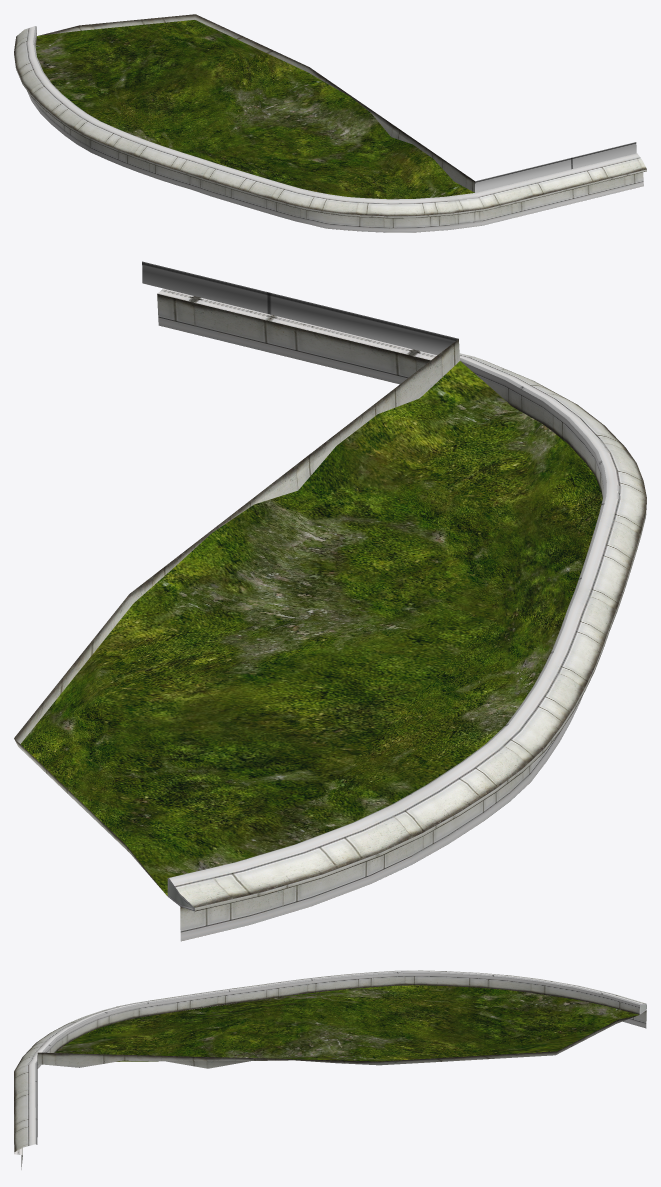
File: STA20_42.FBX
3 renders of one model, top to bottom at view 1: azimuth 30°, elevation 25°; view 2: azimuth 150°, elevation 25°; view 3: azimuth 270°, elevation 25°, orthographic. The views are drawn at different scales.
Visible parts, largest first — view 1: STA20_42; view 2: STA20_42; view 3: STA20_42.
Boxes of the visible parts, x1=… form: STA20_42: x1=14, y1=14, x2=646, y2=232; STA20_42: x1=14, y1=261, x2=646, y2=941; STA20_42: x1=14, y1=970, x2=646, y2=1169.
Bounding box in the file's own units: 25.65 × 3.36 × 35.97.
